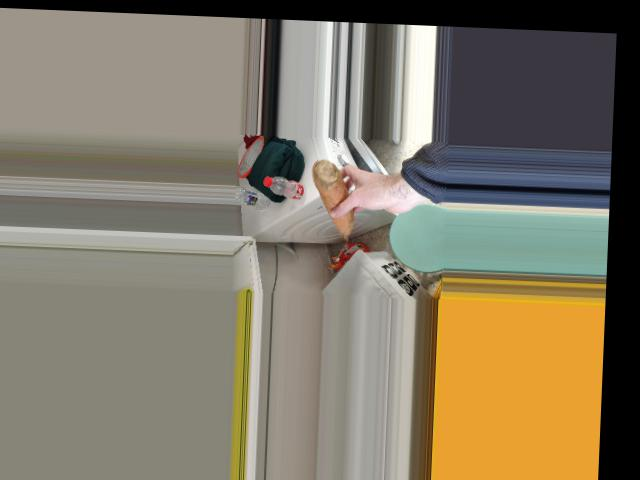sweet_potato: (306, 164, 362, 234)
